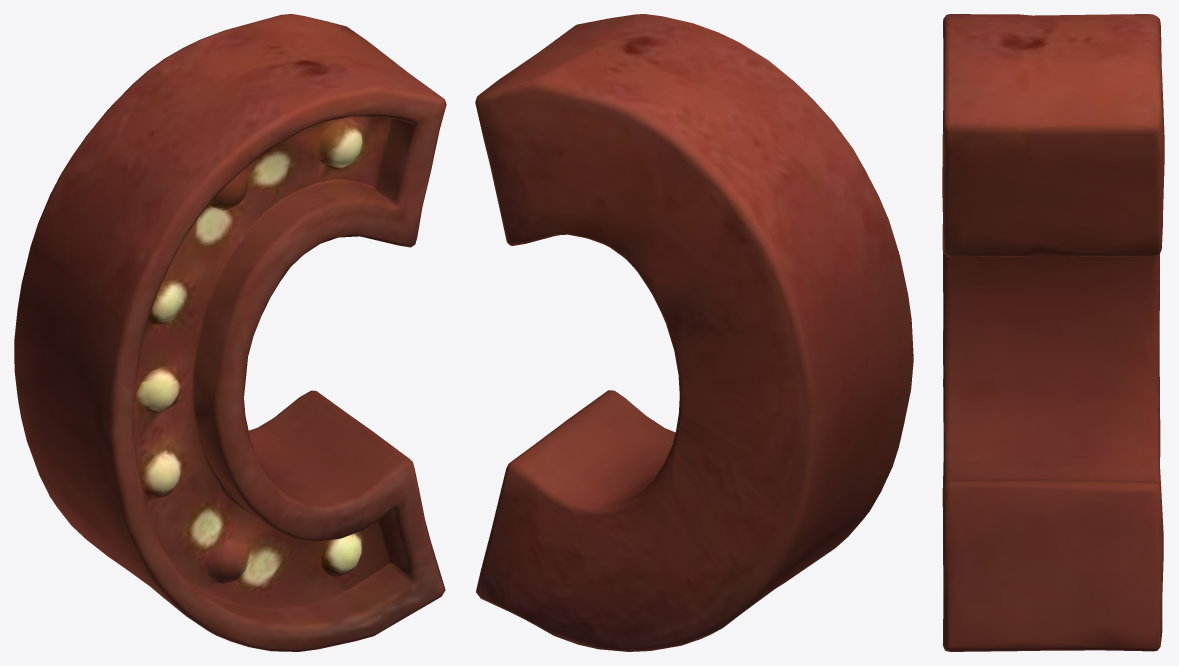
The model's file is letter_c_idle.glb.
The picture shows the model from 3 angles, left to right: view 1: azimuth 30°, elevation 25°; view 2: azimuth 150°, elevation 25°; view 3: azimuth 270°, elevation 25°; orthographic projection. The views are drawn at different scales.
Visible parts, largest first — view 1: letter_c; view 2: letter_c; view 3: letter_c.
Boxes of the visible parts, x1,y1,x2,y2 form: letter_c: [14, 14, 446, 651]; letter_c: [475, 14, 913, 651]; letter_c: [942, 14, 1164, 651].
Size of the model in its own units: 0.6402 by 0.9997 by 0.3431.
1 material, 1 textured.
